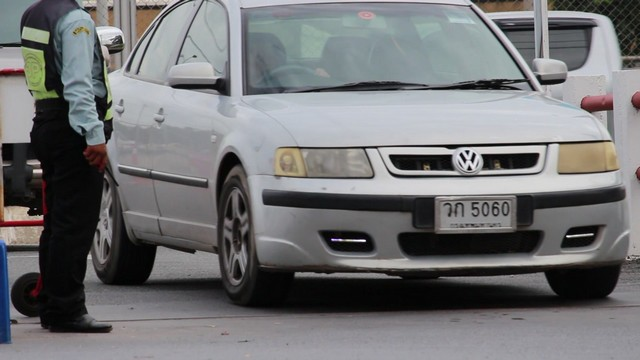in: (440, 201, 511, 229)
out: (434, 196, 516, 234)
